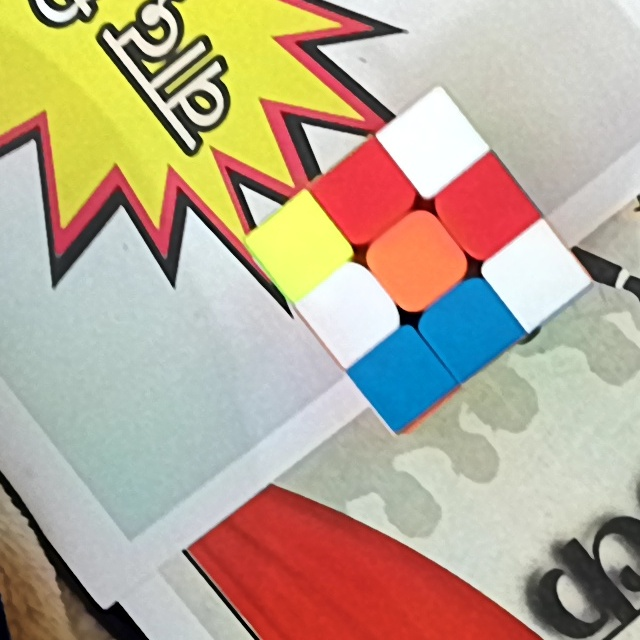tile: (388, 232, 446, 288), (323, 285, 381, 339), (460, 181, 516, 236), (405, 115, 462, 169), (504, 246, 562, 299), (274, 220, 329, 274), (340, 168, 395, 221), (375, 351, 430, 403), (444, 299, 498, 350)
